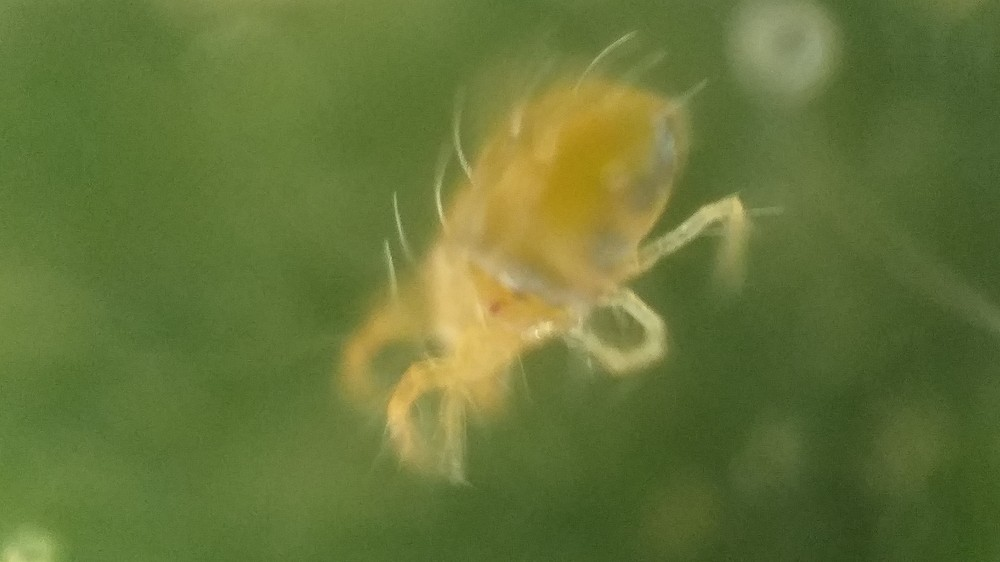Aracnido Rojo: (278, 45, 778, 501)
